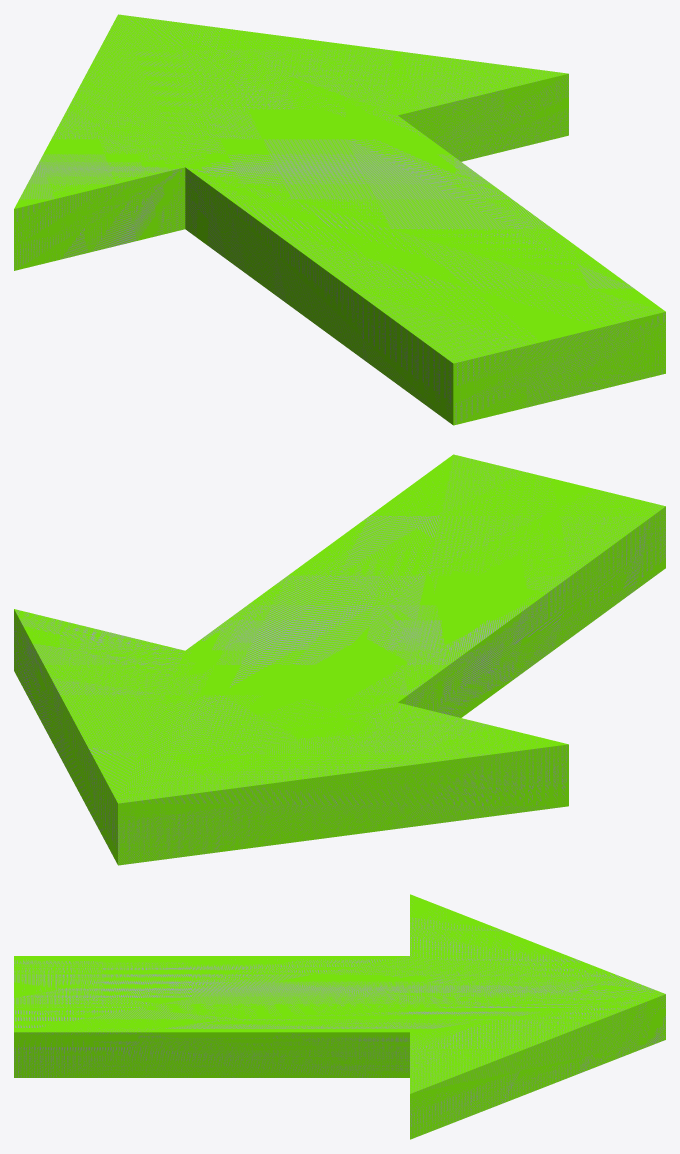
Rendered from arrow.dae.
The picture shows the model from 3 angles, top to bottom: view 1: azimuth 30°, elevation 25°; view 2: azimuth 150°, elevation 25°; view 3: azimuth 270°, elevation 25°; orthographic projection. The views are drawn at different scales.
Parts seen in each view (by area): view 1: SketchUp; view 2: SketchUp; view 3: SketchUp.
Boxes of the visible parts, left/top/right/bottom form: SketchUp: left=14, top=14, right=665, bottom=425; SketchUp: left=14, top=454, right=665, bottom=865; SketchUp: left=14, top=894, right=665, bottom=1139.
Size of the model in its own units: 155 by 213 by 16.5.
